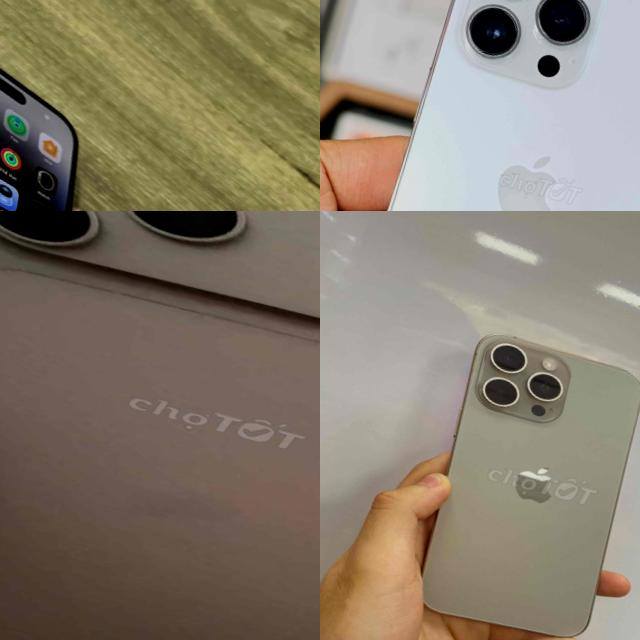gen_14: (320, 0, 640, 211), (0, 0, 166, 211)
gen_16: (422, 334, 640, 635)
gen_17: (0, 211, 320, 640)
